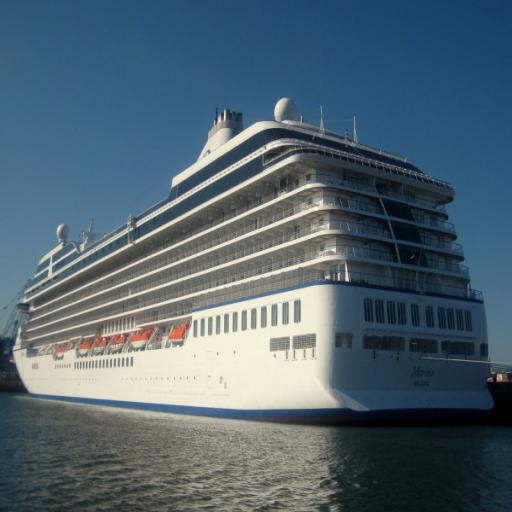cruises: (9, 79, 502, 440)
